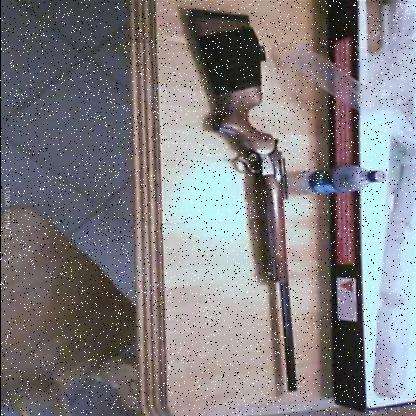rifle: (144, 14, 307, 389)
